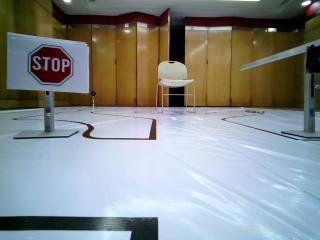stop: (14, 38, 79, 90)
